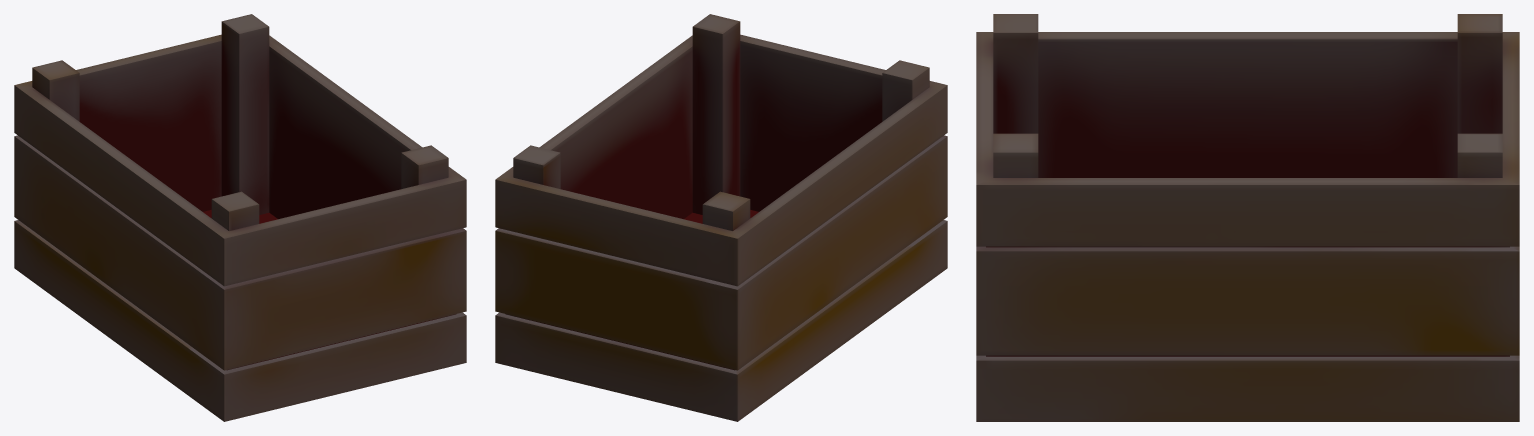
The model's file is sepet.fbx.
3 renders of one model, left to right at view 1: azimuth 30°, elevation 25°; view 2: azimuth 150°, elevation 25°; view 3: azimuth 270°, elevation 25°, orthographic. The views are drawn at different scales.
Visible parts, largest first — view 1: Cube.045; view 2: Cube.045; view 3: Cube.045.
Part boxes in pixels (<box>): Cube.045: <box>14,14,466,421</box>; Cube.045: <box>495,14,947,421</box>; Cube.045: <box>976,14,1519,421</box>.
Size of the model in its own units: 149 by 119 by 224.
